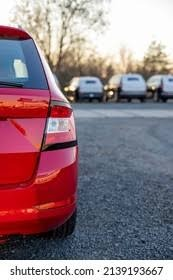car: (1, 18, 80, 247), (1, 21, 79, 242), (69, 78, 104, 102), (115, 74, 147, 100), (146, 75, 173, 100), (147, 75, 173, 100)
